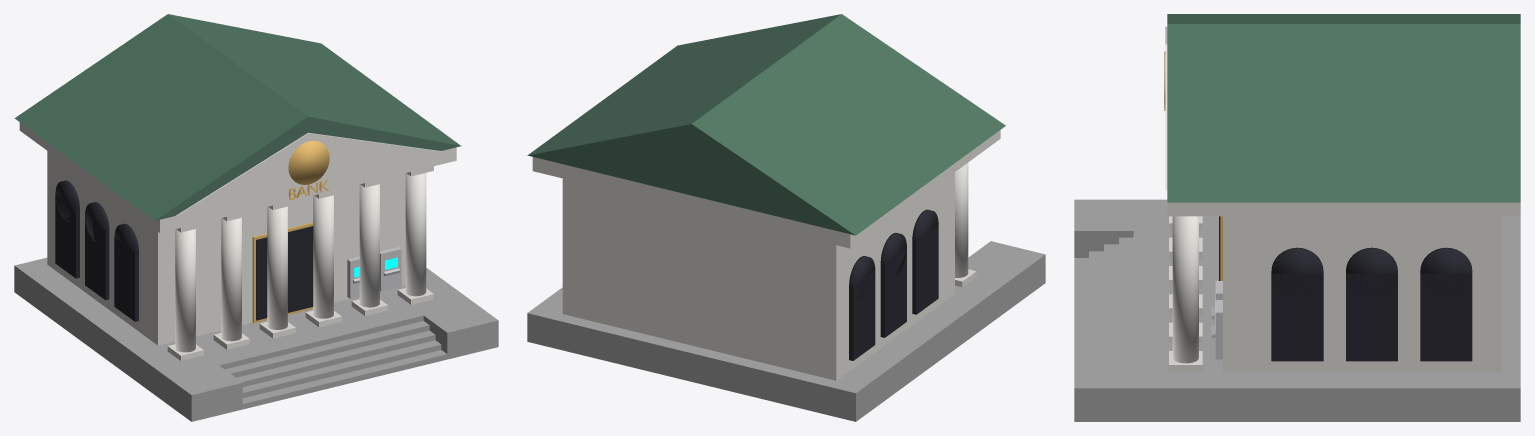
File: jerryblessed-bank-5025.glb
3 views of the same model, side by side, from view 1: azimuth 30°, elevation 25°; view 2: azimuth 150°, elevation 25°; view 3: azimuth 270°, elevation 25° (orthographic). The views are drawn at different scales.
Parts seen in each view (by area): view 1: Roof_Pediment, Main_Hall, Foundation_Base, Tympanum_Recess, Entablature, Pedestal_L, Pedestal_R, Column_Shaft_6, Column_Shaft_1, Column_Shaft_4, Column_Shaft_5, Column_Shaft_2 (+18 smaller); view 2: Roof_Pediment, Main_Hall, Foundation_Base, Entablature, Pedestal_L, Window_L_1, Window_L_3, Window_L_2, Column_Shaft_1, Window_Arch_L_2, Window_Arch_L_3, Window_Arch_L_1; view 3: Roof_Pediment, Foundation_Base, Main_Hall, Entablature, Pedestal_R, Window_R_1, Window_R_3, Window_R_2, Column_Shaft_6, Pedestal_L, Stair_Step_5, Stair_Step_4 (+9 smaller).
Boxes of the visible parts, x1=… form: Roof_Pediment: x1=14, y1=14, x2=461, y2=220; Main_Hall: x1=47, y1=151, x2=405, y2=345; Foundation_Base: x1=14, y1=257, x2=468, y2=399; Tympanum_Recess: x1=175, y1=132, x2=441, y2=216; Entablature: x1=19, y1=122, x2=456, y2=232; Pedestal_L: x1=162, y1=361, x2=242, y2=421; Pedestal_R: x1=418, y1=299, x2=498, y2=359; Column_Shaft_6: x1=405, y1=173, x2=426, y2=296; Column_Shaft_1: x1=175, y1=229, x2=195, y2=352; Column_Shaft_4: x1=313, y1=195, x2=333, y2=318; Column_Shaft_5: x1=359, y1=184, x2=379, y2=307; Column_Shaft_2: x1=221, y1=218, x2=241, y2=341; Roof_Pediment: x1=527, y1=14, x2=1005, y2=235; Main_Hall: x1=562, y1=172, x2=954, y2=380; Foundation_Base: x1=527, y1=266, x2=1013, y2=421; Entablature: x1=532, y1=130, x2=1000, y2=248; Pedestal_L: x1=968, y1=241, x2=1045, y2=305; Window_L_1: x1=912, y1=224, x2=938, y2=314; Window_L_3: x1=849, y1=271, x2=875, y2=360; Window_L_2: x1=880, y1=247, x2=906, y2=337; Column_Shaft_1: x1=955, y1=163, x2=968, y2=277; Window_Arch_L_2: x1=880, y1=233, x2=906, y2=274; Window_Arch_L_3: x1=849, y1=256, x2=875, y2=299; Window_Arch_L_1: x1=912, y1=209, x2=938, y2=240; Roof_Pediment: x1=1167, y1=14, x2=1520, y2=202; Foundation_Base: x1=1148, y1=199, x2=1520, y2=421; Main_Hall: x1=1223, y1=216, x2=1502, y2=372; Entablature: x1=1167, y1=202, x2=1520, y2=216; Pedestal_R: x1=1074, y1=356, x2=1148, y2=421; Window_R_1: x1=1271, y1=273, x2=1323, y2=361; Window_R_3: x1=1420, y1=273, x2=1472, y2=361; Window_R_2: x1=1346, y1=273, x2=1397, y2=361; Column_Shaft_6: x1=1172, y1=216, x2=1198, y2=363; Pedestal_L: x1=1074, y1=199, x2=1148, y2=257; Stair_Step_5: x1=1133, y1=231, x2=1148, y2=356; Stair_Step_4: x1=1119, y1=237, x2=1133, y2=356.
Size of the model in its own units: 12 by 9 by 12.
